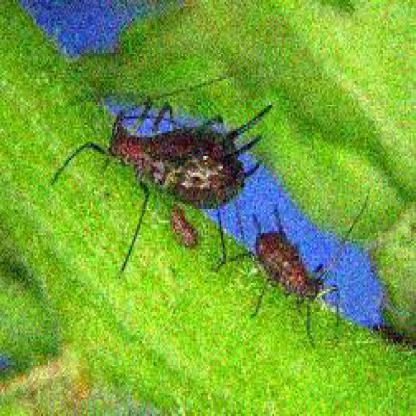uroleucon compositae: (56, 100, 271, 275)
